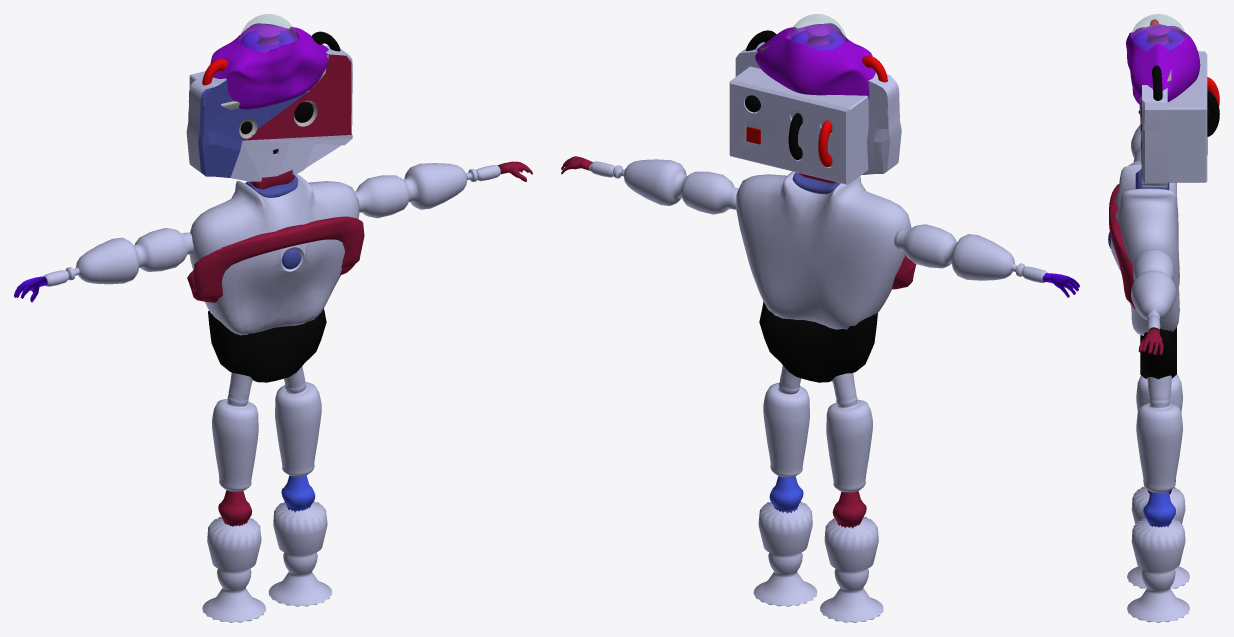
File: Roby2.0.fbx
3 renders of one model, left to right at view 1: azimuth 30°, elevation 25°; view 2: azimuth 150°, elevation 25°; view 3: azimuth 270°, elevation 25°, orthographic.
Visible parts, largest first — view 1: pCube22, pCube5, pCylinder10, pCube8, pCube23, pCube21, polySurface3, polySurface6, polySurface1, polySurface4, pSphere7, polySurface5 (+1 smaller); view 2: pCube22, pCube17, pCylinder10, pCube8, pCube23, polySurface3, polySurface6, polySurface1, polySurface4, pCube5, pSphere7, polySurface5 (+1 smaller); view 3: pCube22, polySurface6, polySurface4, pCube17, pCube8, pCylinder10, pCube5, pSphere7, polySurface3, pCube23, pCube21, polySurface5 (+7 smaller).
Part boxes in pixels (bbox=[...]): pCube22: bbox=[189, 174, 359, 335]; pCube5: bbox=[186, 45, 352, 181]; pCylinder10: bbox=[43, 163, 500, 286]; pCube8: bbox=[210, 23, 328, 109]; pCube23: bbox=[208, 308, 326, 382]; pCube21: bbox=[187, 216, 364, 302]; polySurface3: bbox=[202, 516, 265, 622]; polySurface6: bbox=[268, 501, 332, 606]; polySurface1: bbox=[212, 372, 258, 491]; polySurface4: bbox=[275, 366, 321, 476]; pSphere7: bbox=[240, 14, 297, 52]; polySurface5: bbox=[281, 475, 315, 512]; pCube22: bbox=[736, 171, 911, 329]; pCube17: bbox=[729, 66, 868, 184]; pCylinder10: bbox=[589, 159, 1047, 282]; pCube8: bbox=[755, 23, 875, 98]; pCube23: bbox=[759, 301, 877, 382]; polySurface3: bbox=[820, 517, 883, 622]; polySurface6: bbox=[753, 501, 817, 606]; polySurface1: bbox=[826, 373, 872, 492]; polySurface4: bbox=[763, 365, 809, 477]; pCube5: bbox=[735, 43, 901, 174]; pSphere7: bbox=[789, 14, 845, 49]; polySurface5: bbox=[769, 476, 803, 513]; pCube22: bbox=[1110, 160, 1179, 335]; polySurface6: bbox=[1127, 518, 1189, 622]; polySurface4: bbox=[1136, 375, 1182, 493]; pCube17: bbox=[1167, 51, 1207, 182]; pCube8: bbox=[1126, 24, 1200, 105]; pCylinder10: bbox=[1131, 124, 1176, 331]; pCube5: bbox=[1139, 85, 1167, 187]; pSphere7: bbox=[1130, 14, 1184, 50]; polySurface3: bbox=[1127, 486, 1189, 588]; pCube23: bbox=[1140, 327, 1176, 379]; pCube21: bbox=[1109, 184, 1135, 309]; polySurface5: bbox=[1143, 491, 1175, 527].
Bounding box in the file's own units: 10.09 × 10.97 × 1.92.
